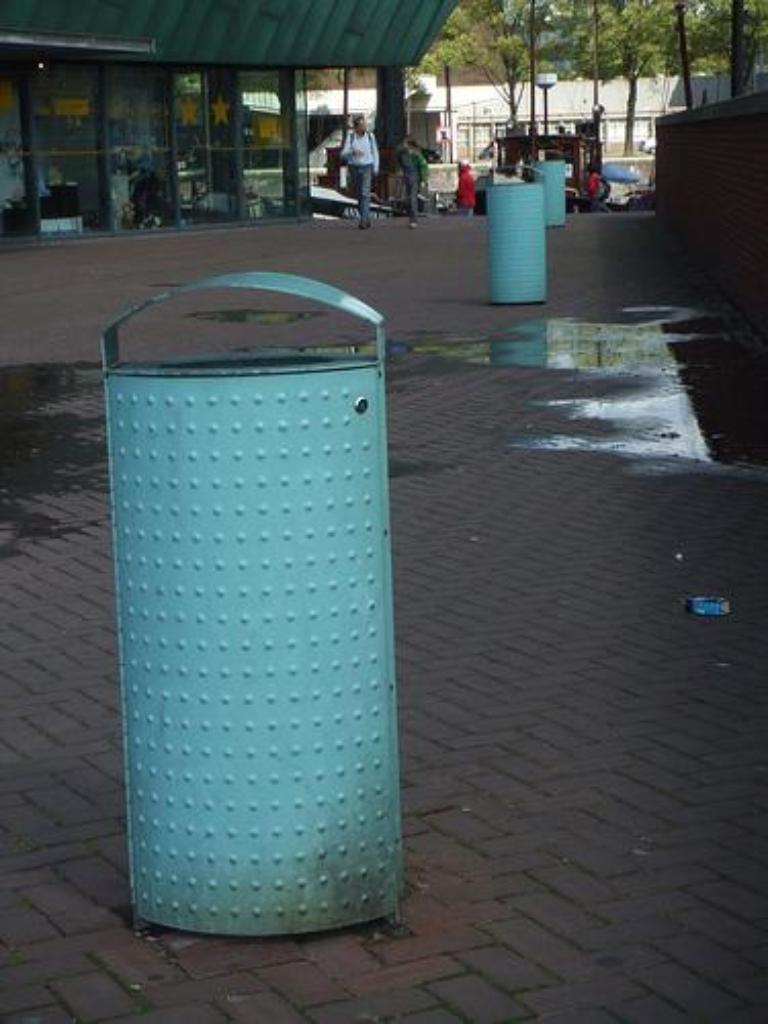dustbin: (90, 262, 425, 944), (477, 177, 566, 316)
